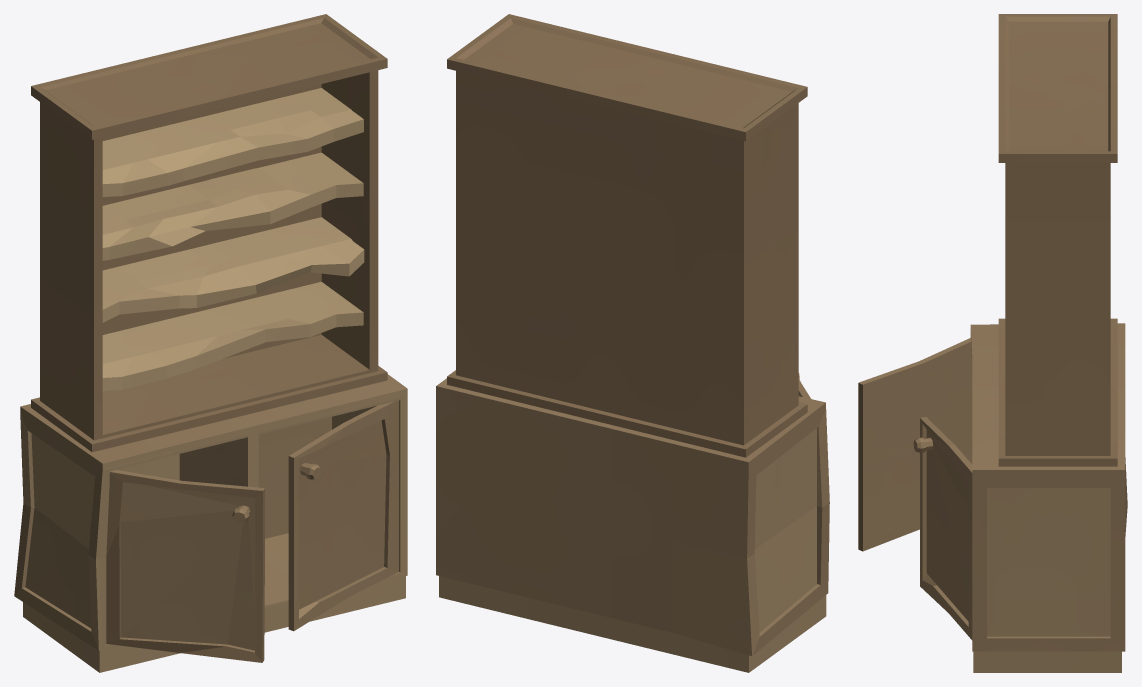
File: shelf_4_B.glb
3 renders of one model, left to right at view 1: azimuth 30°, elevation 25°; view 2: azimuth 150°, elevation 25°; view 3: azimuth 270°, elevation 25°, orthographic. The views are drawn at different scales.
Visible parts, largest first — view 1: shelf_upper_B, shelf_B, shelf_door_B, box_B; view 2: shelf_upper_B, box_B; view 3: shelf_upper_B, box_B, shelf_door_B.
Part boxes in pixels (x1,y1,x2,y2): shelf_upper_B: (31, 14, 387, 452); shelf_B: (102, 88, 364, 390); shelf_door_B: (106, 400, 398, 662); box_B: (14, 374, 407, 672); shelf_upper_B: (447, 14, 807, 457); box_B: (436, 378, 829, 672); shelf_upper_B: (998, 14, 1117, 466); box_B: (970, 323, 1127, 672); shelf_door_B: (858, 338, 972, 640).
Bounding box in the file's own units: 1.08 × 1.75 × 0.8255.
Materials: 1 (1 with a texture image).
